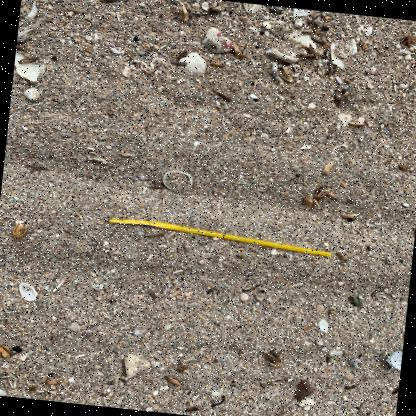Plastic straw: (108, 218, 332, 257)
